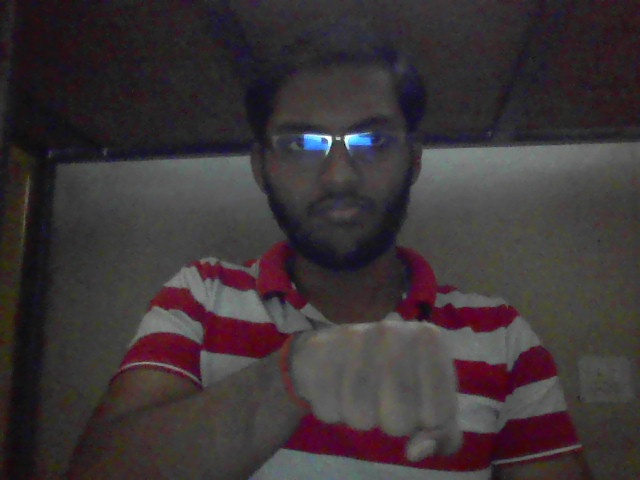Not_Hungry: (270, 312, 512, 480)
